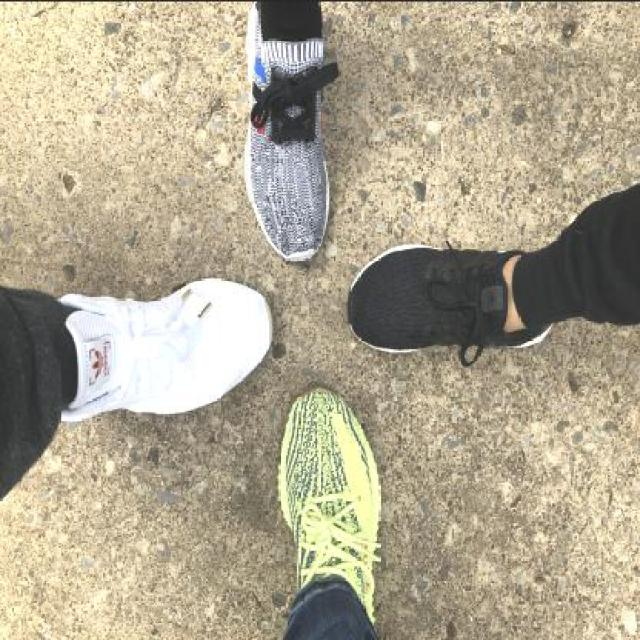shoe: (62, 274, 271, 420), (346, 240, 542, 356), (279, 384, 380, 608), (243, 25, 333, 264)
